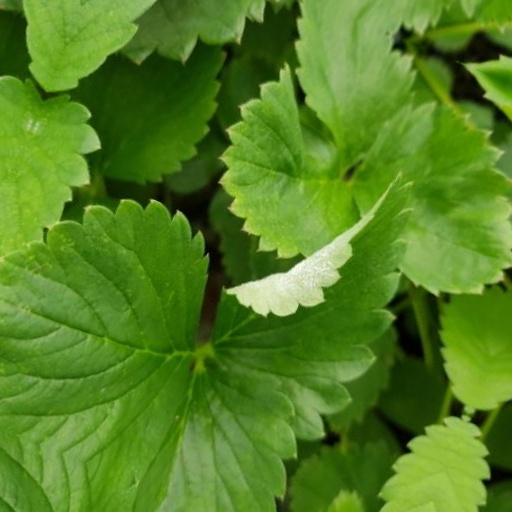Powdery Mildew Leaf: (236, 121, 412, 411)
